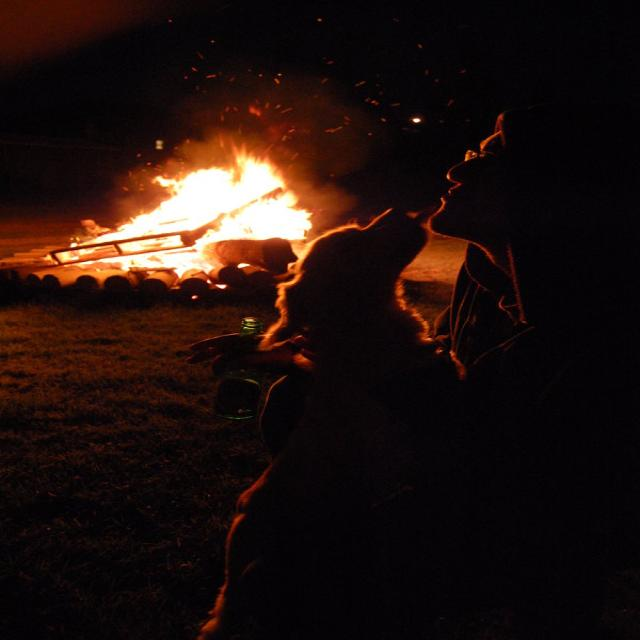Bottle: (190, 301, 304, 432)
